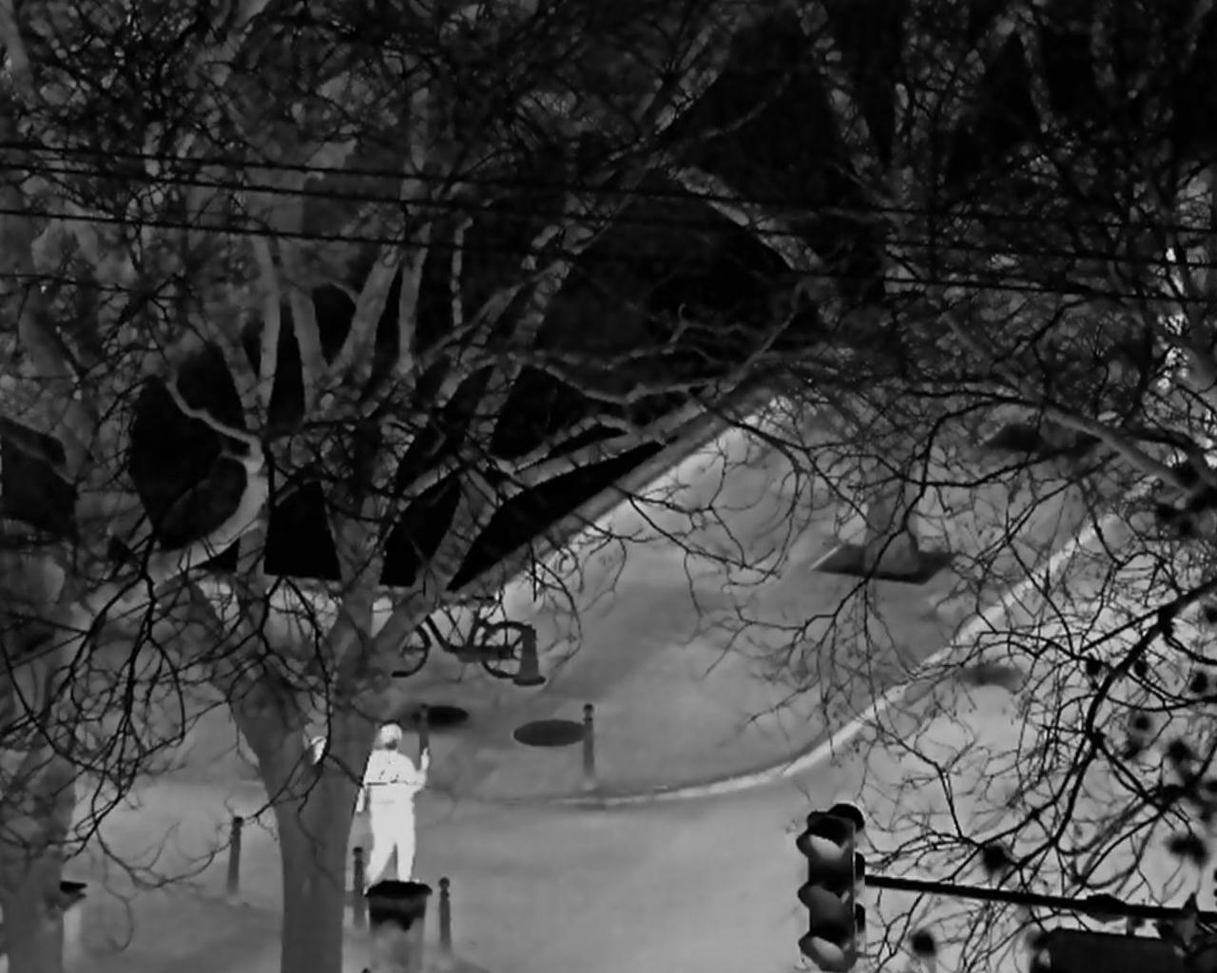person: (359, 721, 430, 885)
